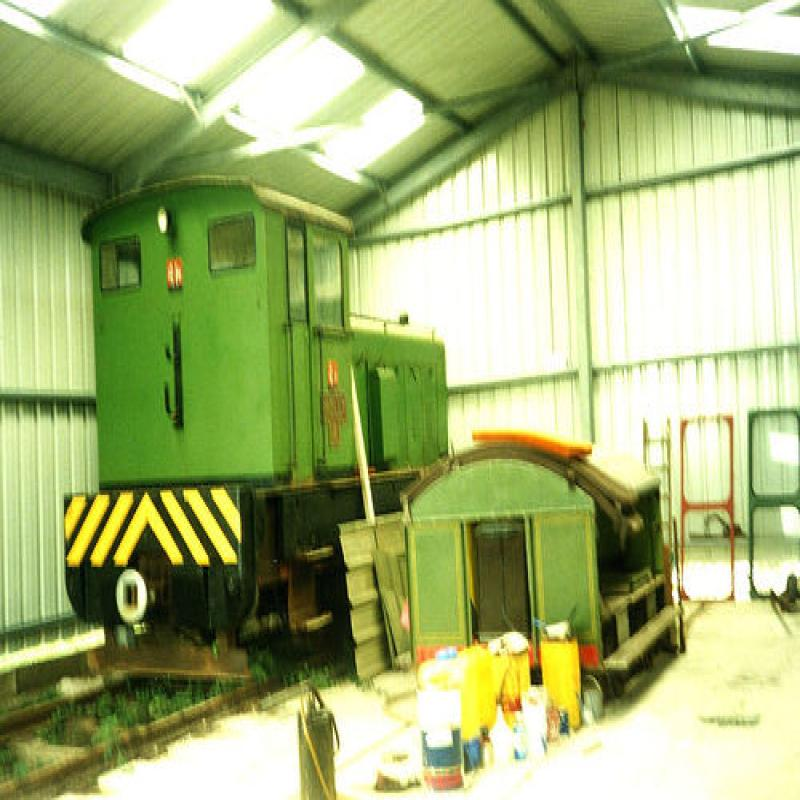train: (62, 169, 454, 686)
